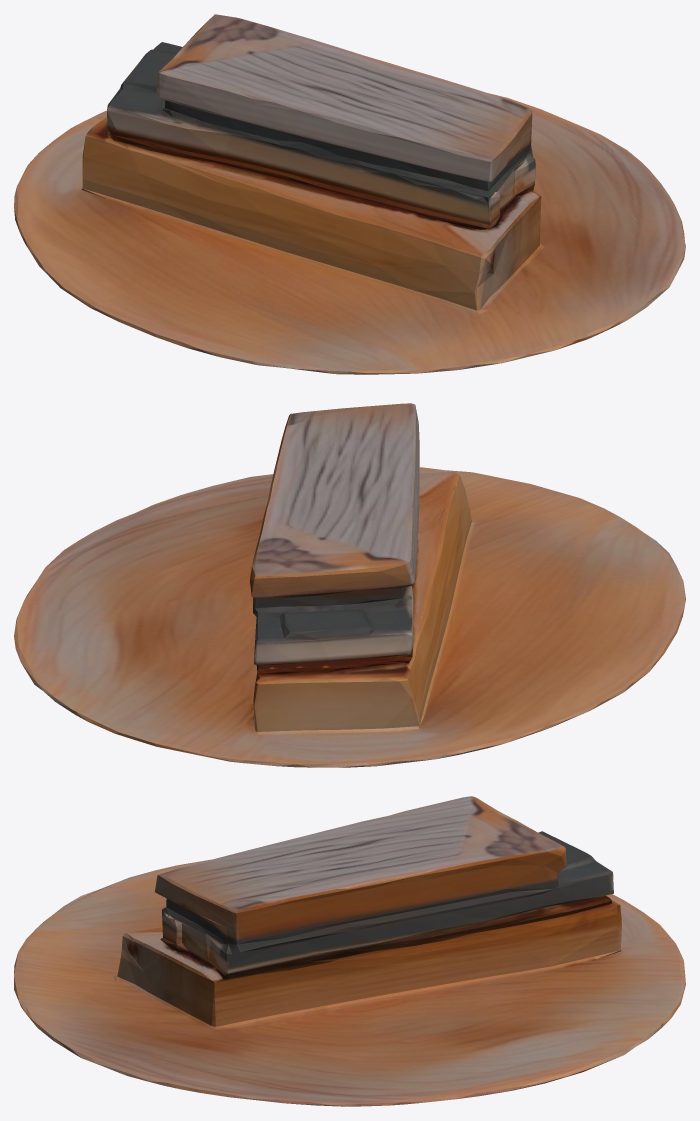
Rendered from lumber_stack.glb.
The picture shows the model from 3 angles, top to bottom: view 1: azimuth 30°, elevation 25°; view 2: azimuth 150°, elevation 25°; view 3: azimuth 270°, elevation 25°; orthographic projection. The views are drawn at different scales.
Visible parts, largest first — view 1: textured_mesh.obj; view 2: textured_mesh.obj; view 3: textured_mesh.obj.
Boxes of the visible parts, x1,y1,x2,y2 form: textured_mesh.obj: (14, 14, 685, 374); textured_mesh.obj: (14, 403, 685, 767); textured_mesh.obj: (14, 796, 685, 1106).
Bounding box in the file's own units: 3.5 × 0.9 × 3.87.
1 material, 1 textured.
